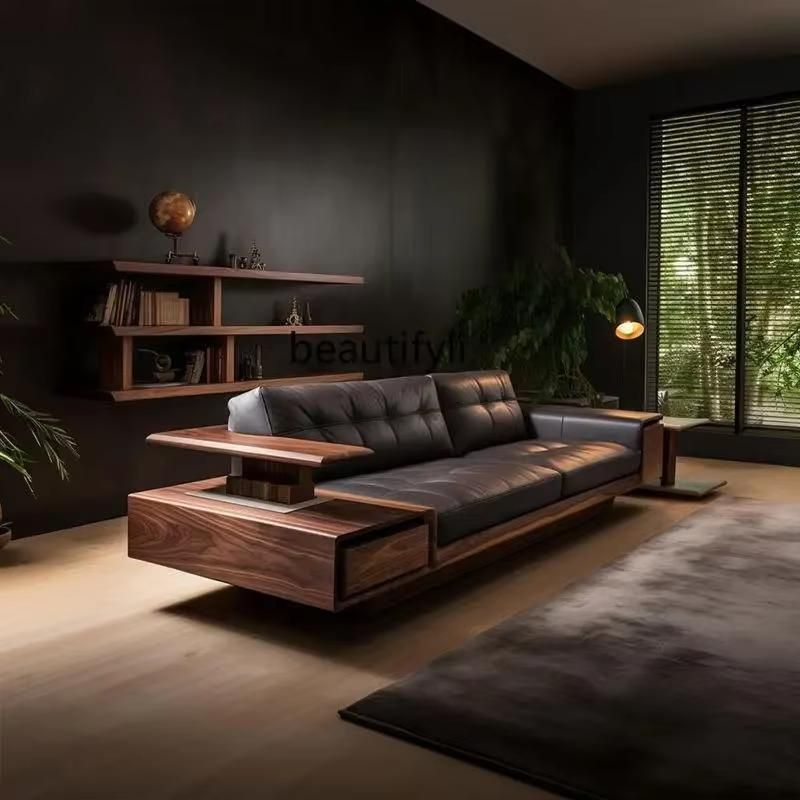3seatersofa: (129, 370, 725, 611)
backrest: (228, 371, 529, 478)
base: (435, 479, 637, 565)
leftarmrest: (531, 406, 725, 497)
rightarmrest: (129, 426, 427, 610)
seat: (323, 440, 640, 545)
